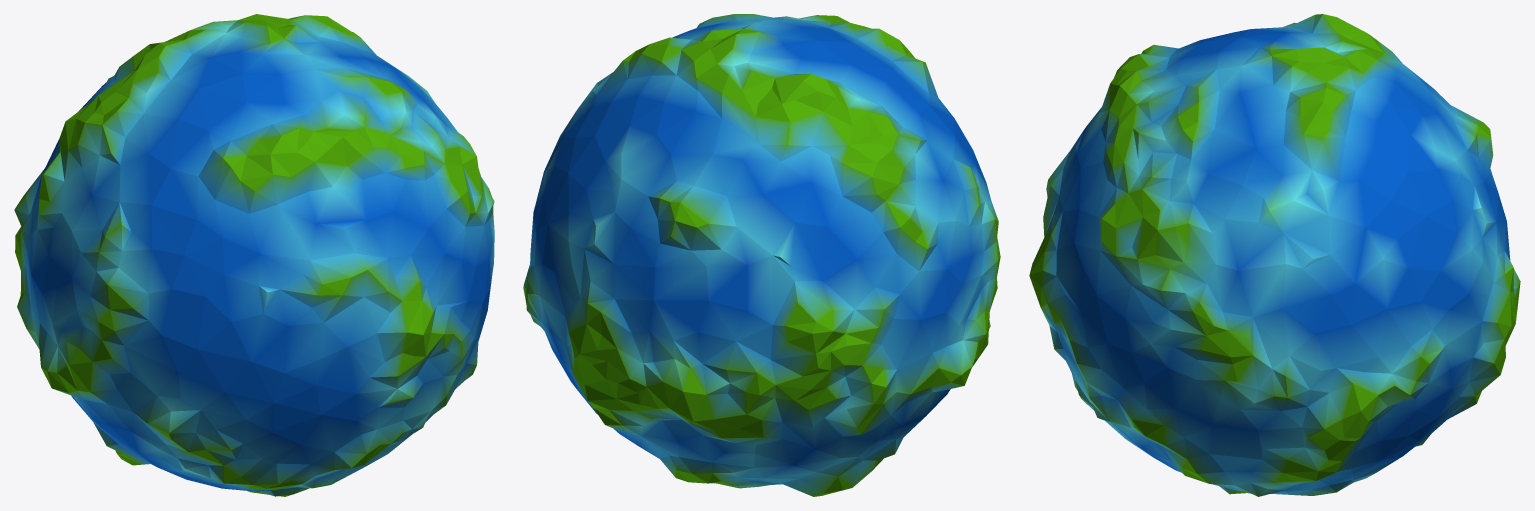
The model's file is planet_64.fbx.
3 renders of one model, left to right at view 1: azimuth 30°, elevation 25°; view 2: azimuth 150°, elevation 25°; view 3: azimuth 270°, elevation 25°, orthographic.
Visible parts, largest first — view 1: file1; view 2: file1; view 3: file1.
Boxes of the visible parts, x1=… form: file1: x1=14, y1=14, x2=494, y2=496; file1: x1=523, y1=14, x2=1000, y2=496; file1: x1=1029, y1=14, x2=1520, y2=496.
Size of the model in its own units: 2.08 by 2.1 by 2.11.
